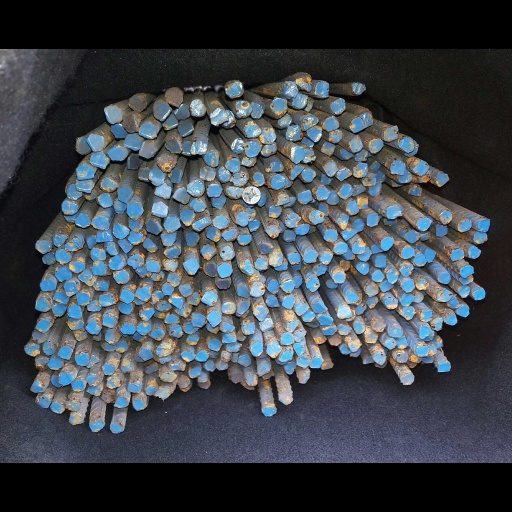dipstick: (210, 107, 229, 126), (153, 101, 170, 121), (104, 105, 122, 123), (164, 88, 182, 106), (90, 151, 108, 169), (234, 100, 252, 118), (157, 155, 176, 172), (87, 133, 104, 151), (127, 203, 144, 221), (225, 80, 243, 97), (122, 113, 138, 132), (129, 95, 146, 112), (139, 122, 156, 139), (124, 133, 141, 150), (154, 183, 171, 200), (151, 201, 168, 218), (173, 187, 190, 204), (259, 127, 276, 144), (163, 216, 181, 232), (193, 216, 211, 232), (75, 164, 94, 179), (190, 99, 206, 116), (139, 141, 156, 157), (117, 186, 133, 203), (187, 180, 204, 196), (270, 98, 287, 114), (244, 121, 261, 137), (244, 141, 261, 157), (282, 81, 298, 98), (105, 329, 121, 345), (266, 342, 282, 358), (292, 93, 308, 109), (165, 138, 182, 153), (54, 249, 71, 264), (231, 171, 248, 186), (286, 125, 303, 140), (290, 146, 305, 163), (307, 125, 322, 142), (301, 115, 318, 130), (295, 77, 312, 92), (100, 178, 118, 192), (180, 208, 194, 226), (91, 216, 109, 230), (54, 266, 72, 280), (75, 137, 90, 153), (149, 169, 164, 185), (113, 224, 129, 239), (127, 229, 143, 244), (202, 291, 218, 306), (207, 311, 222, 327), (201, 244, 216, 260), (174, 104, 190, 119), (323, 116, 339, 131), (349, 117, 365, 132), (348, 136, 363, 152), (383, 125, 398, 141), (413, 160, 428, 176), (108, 146, 125, 160), (65, 237, 82, 251), (68, 259, 85, 273), (335, 167, 352, 181), (38, 278, 56, 291), (74, 213, 89, 228), (146, 219, 161, 234), (143, 237, 158, 252), (183, 259, 198, 274), (206, 227, 221, 242), (200, 166, 215, 181), (250, 281, 265, 296), (284, 212, 299, 227), (297, 189, 312, 204), (353, 163, 368, 178), (368, 138, 383, 153), (390, 160, 405, 175), (110, 124, 126, 138), (177, 122, 193, 136), (127, 153, 141, 169), (67, 183, 81, 199), (61, 200, 77, 214), (190, 198, 206, 212), (108, 256, 124, 270), (35, 298, 51, 312), (35, 319, 51, 333), (217, 263, 233, 277), (191, 141, 207, 155), (205, 150, 219, 166), (250, 102, 264, 118), (254, 305, 268, 321), (315, 81, 329, 97), (331, 98, 345, 114), (76, 180, 93, 193), (113, 270, 130, 283), (99, 293, 116, 306), (156, 343, 173, 356), (223, 110, 235, 128), (435, 289, 453, 301), (97, 193, 112, 207), (64, 281, 78, 296), (92, 260, 107, 274), (119, 289, 134, 303), (57, 346, 72, 360), (75, 352, 90, 366), (204, 262, 218, 277), (220, 246, 235, 260), (213, 215, 228, 229), (211, 195, 226, 209), (265, 224, 280, 238), (236, 300, 250, 315), (259, 318, 274, 332), (270, 174, 284, 189), (261, 142, 276, 156), (315, 186, 330, 200), (338, 184, 352, 199), (345, 200, 359, 215), (324, 161, 338, 176), (405, 229, 420, 243), (160, 232, 176, 245), (386, 205, 402, 218), (96, 230, 113, 242), (169, 359, 186, 371), (226, 186, 243, 198), (76, 291, 90, 305), (167, 272, 181, 286), (185, 232, 199, 246), (136, 287, 150, 301), (52, 302, 66, 316), (168, 294, 182, 308), (309, 210, 323, 224), (321, 142, 335, 156), (400, 263, 414, 277), (169, 167, 182, 182), (117, 239, 132, 252), (128, 255, 143, 268), (68, 305, 83, 318), (102, 314, 117, 327), (32, 330, 47, 343), (34, 357, 49, 370), (36, 395, 51, 408), (90, 419, 105, 432), (101, 390, 116, 403), (150, 291, 165, 304), (207, 184, 222, 197), (218, 167, 231, 182), (241, 260, 254, 275), (249, 341, 262, 356), (294, 303, 309, 316), (341, 228, 356, 241), (399, 138, 414, 151), (379, 279, 394, 292), (67, 318, 83, 330), (24, 344, 40, 356), (183, 322, 199, 334), (164, 246, 180, 258), (274, 194, 290, 206), (266, 161, 283, 172), (104, 242, 118, 255), (86, 321, 100, 334), (137, 322, 151, 335), (106, 375, 120, 388), (191, 314, 205, 327), (231, 138, 244, 152), (225, 158, 239, 171), (293, 329, 307, 342), (278, 114, 292, 127), (290, 166, 304, 179), (347, 338, 361, 351), (337, 305, 351, 318), (306, 278, 319, 292), (320, 250, 333, 264), (323, 229, 337, 242), (333, 242, 347, 255), (356, 261, 369, 275), (302, 168, 315, 182), (362, 173, 376, 186), (368, 182, 381, 196), (360, 112, 373, 126), (436, 173, 449, 187), (417, 218, 431, 231), (380, 237, 394, 250), (400, 293, 414, 306), (401, 306, 415, 319), (460, 265, 474, 278), (113, 198, 125, 213), (90, 248, 105, 260), (87, 299, 102, 311), (118, 302, 133, 314), (120, 323, 135, 335), (58, 373, 73, 385), (31, 381, 46, 393), (140, 308, 155, 320), (221, 302, 236, 314), (222, 229, 237, 241), (267, 279, 279, 294), (296, 356, 311, 368), (337, 214, 349, 229), (303, 147, 315, 162), (35, 241, 51, 252), (43, 342, 56, 355), (177, 375, 190, 388), (238, 354, 251, 367), (282, 296, 295, 309), (269, 253, 282, 266), (287, 252, 300, 265), (304, 249, 317, 262), (329, 130, 342, 143), (439, 211, 452, 224), (138, 168, 150, 182), (53, 234, 67, 246), (42, 252, 56, 264), (146, 260, 160, 272), (48, 358, 62, 370), (71, 379, 85, 391), (121, 361, 135, 373), (114, 396, 128, 408), (151, 329, 165, 341), (179, 284, 193, 296), (168, 326, 182, 338), (181, 350, 195, 362), (208, 339, 222, 351), (181, 141, 193, 155), (278, 349, 292, 361), (280, 280, 294, 292), (371, 319, 385, 331), (327, 190, 339, 204), (351, 82, 365, 94), (401, 280, 415, 292), (400, 373, 414, 385), (450, 248, 464, 260), (473, 231, 487, 243), (220, 321, 235, 332), (216, 278, 231, 289), (258, 242, 273, 253), (312, 302, 327, 313), (388, 326, 403, 337), (161, 372, 177, 382), (164, 259, 177, 271), (87, 374, 100, 386), (133, 397, 145, 410), (188, 366, 201, 378), (220, 350, 233, 362), (236, 213, 248, 226), (255, 257, 267, 270), (237, 285, 250, 297), (257, 364, 270, 376), (284, 361, 296, 374), (297, 370, 309, 383), (292, 343, 304, 356), (281, 332, 294, 344), (269, 204, 281, 217), (313, 263, 326, 275), (366, 296, 379, 308), (367, 213, 379, 226), (356, 195, 368, 208), (355, 148, 367, 161), (399, 170, 412, 182), (413, 254, 426, 266), (386, 270, 398, 283), (385, 297, 398, 309), (419, 326, 431, 339), (457, 304, 469, 317), (458, 219, 471, 231), (468, 246, 481, 258), (51, 402, 65, 413), (139, 349, 153, 360), (110, 422, 124, 433), (237, 234, 251, 245), (285, 320, 299, 331), (295, 224, 309, 235), (302, 310, 316, 321), (318, 314, 332, 325), (337, 324, 351, 335), (352, 184, 366, 195), (401, 247, 415, 258), (425, 249, 436, 263), (93, 281, 108, 291), (65, 401, 80, 411), (69, 414, 84, 424), (222, 333, 237, 343), (265, 296, 280, 306), (458, 274, 473, 284), (103, 363, 115, 375), (161, 283, 173, 295), (187, 293, 199, 305), (283, 230, 295, 242), (310, 356, 322, 368), (365, 331, 377, 343), (358, 248, 370, 260), (352, 219, 364, 231), (435, 224, 447, 236), (157, 387, 170, 398), (196, 350, 209, 361), (253, 173, 264, 186), (241, 323, 254, 334), (365, 285, 378, 296), (373, 353, 386, 364), (372, 269, 383, 282), (352, 242, 365, 253), (340, 148, 353, 159), (408, 185, 421, 196), (431, 317, 442, 330), (444, 314, 457, 325), (457, 286, 470, 297), (127, 383, 141, 393), (278, 394, 292, 404), (322, 325, 336, 335), (164, 314, 179, 323), (241, 157, 256, 166), (261, 407, 276, 416), (204, 361, 216, 372), (216, 359, 228, 370), (248, 220, 260, 231), (275, 259, 287, 270), (353, 323, 365, 334), (346, 292, 358, 303), (333, 272, 345, 283), (339, 259, 350, 271), (375, 255, 386, 267), (384, 338, 396, 349), (396, 336, 407, 348), (416, 345, 428, 356), (420, 309, 431, 321), (416, 278, 428, 289), (438, 272, 450, 283), (478, 219, 489, 231), (473, 288, 485, 299), (186, 335, 199, 345), (245, 375, 258, 385), (329, 335, 342, 345), (116, 341, 127, 352), (340, 343, 351, 354), (355, 303, 366, 314), (369, 161, 380, 172), (292, 276, 302, 288), (314, 334, 326, 344), (438, 362, 450, 372), (432, 336, 442, 348), (145, 386, 158, 395), (326, 278, 337, 288), (321, 360, 333, 369), (396, 353, 408, 362)
